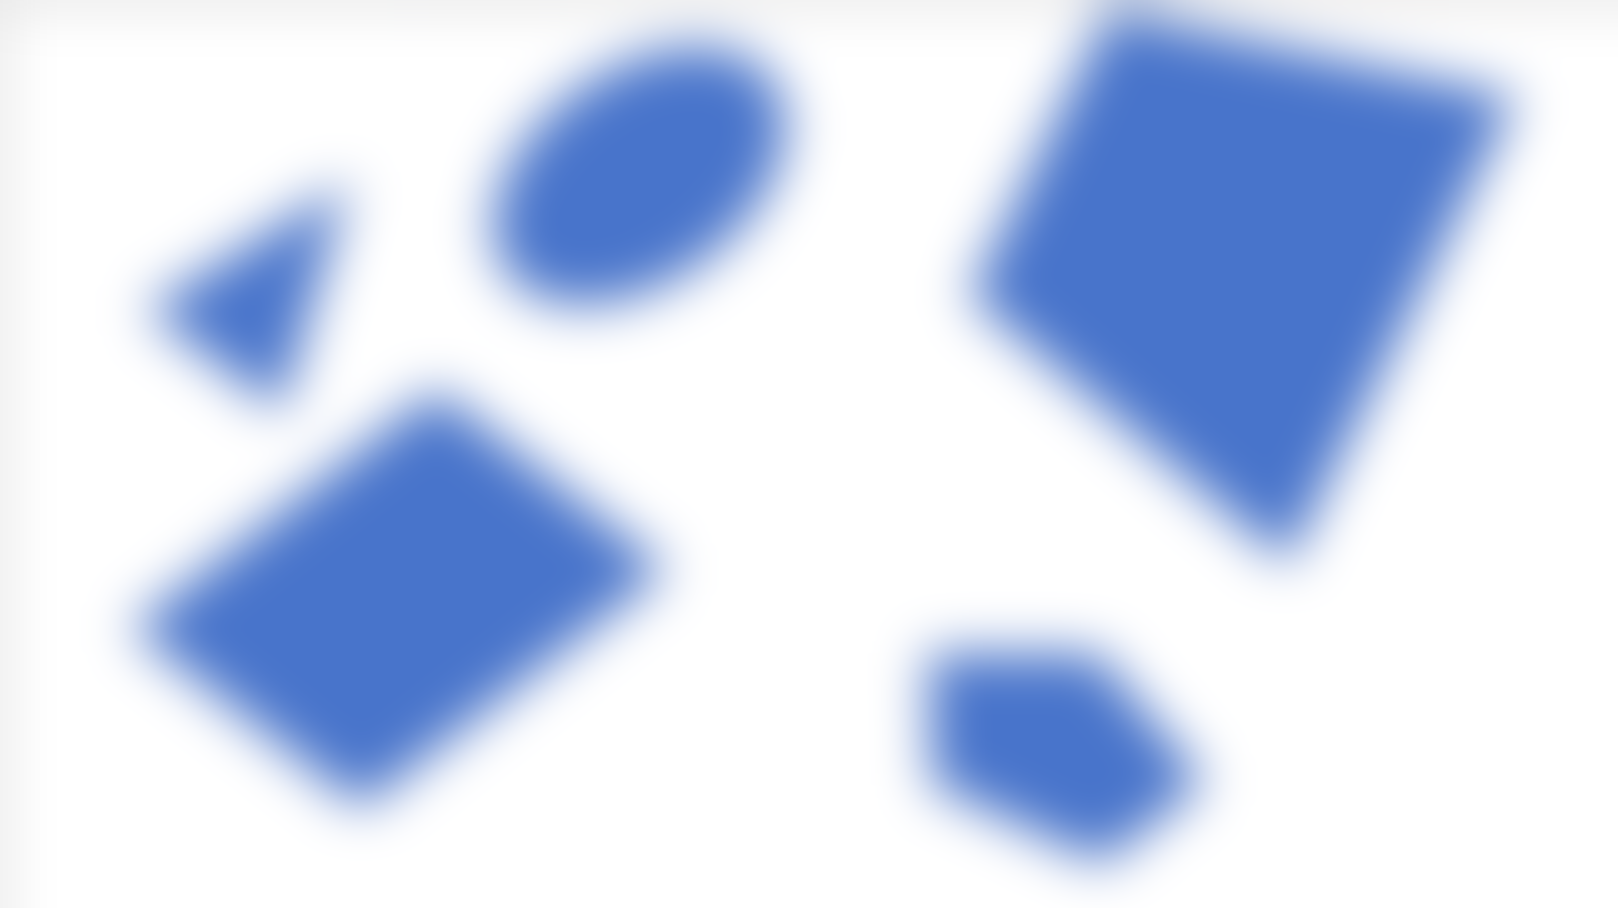circle: (470, 36, 818, 317)
parallelogram: (108, 395, 755, 808)
pentagon: (901, 630, 1232, 899)
trapezium: (938, 1, 1567, 582)
triangle: (148, 176, 364, 399)
